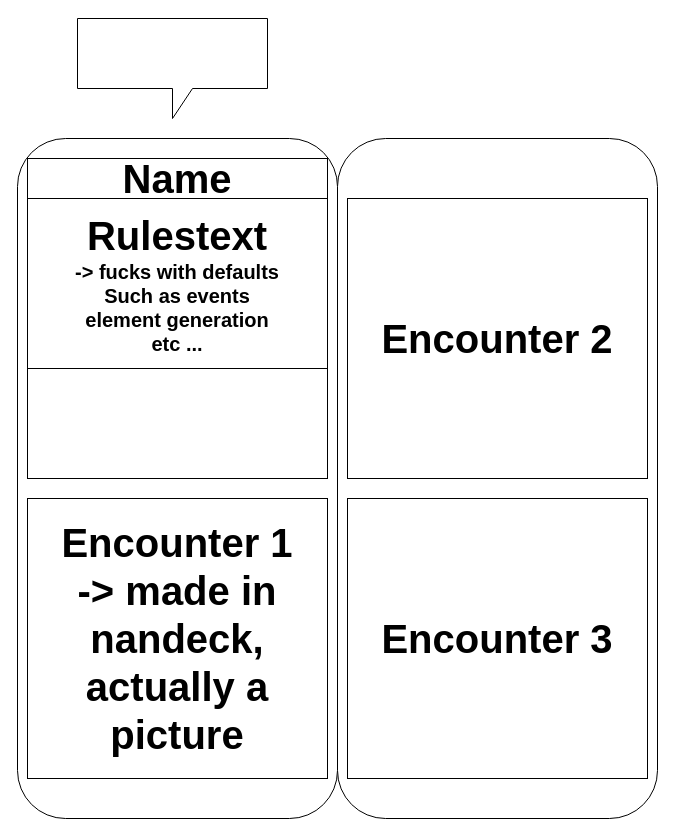
Some shapes in this 675 by 836 pixel diagram are drawn without their labels. Each missing label, with the centre of its shape:
"Big doc is made in latex" goes at point (172, 68).
"Story" goes at point (177, 423).
